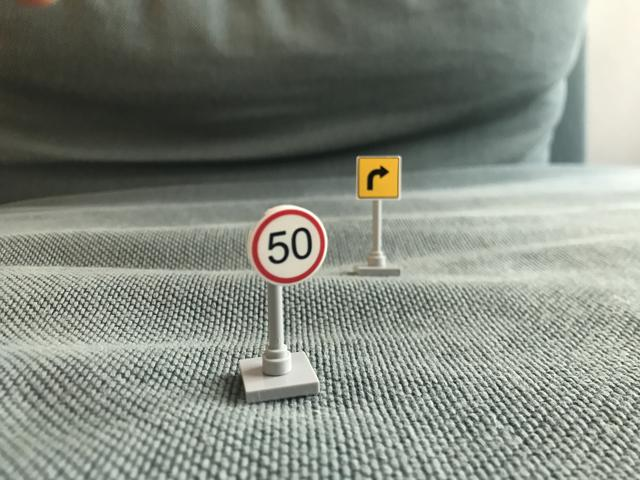fahrtrichtung rechts: (353, 154, 405, 202)
tempolimit 50: (242, 205, 334, 285)
